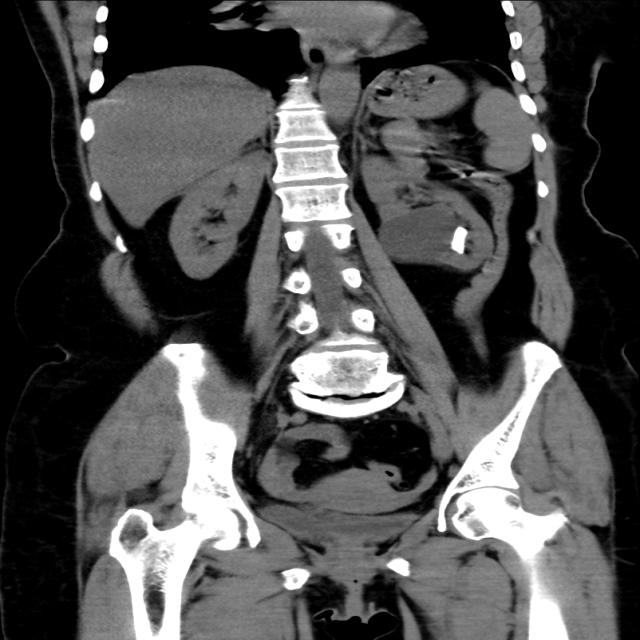kidneystone: (451, 226, 468, 254)
